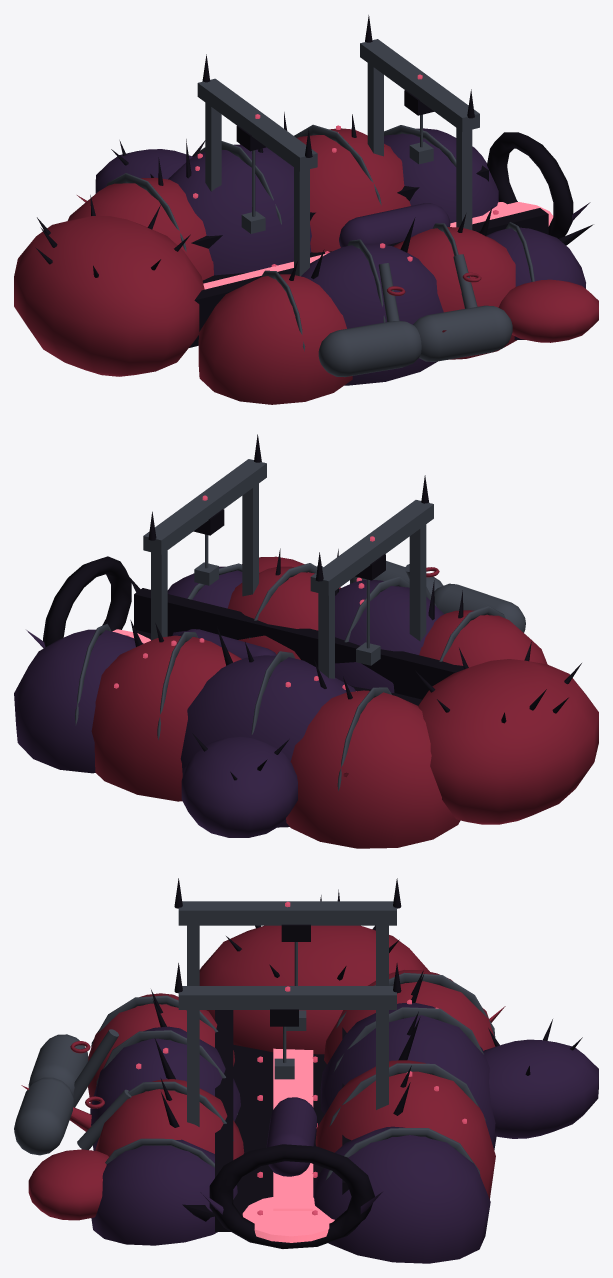
The model's file is foundry-directorate.glb.
3 renders of one model, top to bottom at view 1: azimuth 30°, elevation 25°; view 2: azimuth 150°, elevation 25°; view 3: azimuth 270°, elevation 25°, orthographic. The views are drawn at different scales.
Visible parts, largest first — view 1: stern_carapace, tergite_starboard_0, tergite_port_1, tergite_starboard_1, tergite_port_2, tergite_starboard_2, tergite_port_0, outrigger_pod_small, tergite_port_3, ballast_tank_0, ballast_tank_1, launch_mouth (+19 smaller); view 2: stern_carapace, tergite_port_0, tergite_port_2, tergite_port_1, tergite_port_3, outrigger_pod_big, bay_lip_starboard, tergite_starboard_1, tergite_starboard_0, tergite_starboard_2, gantry_beam_1, gantry_beam_0 (+16 smaller); view 3: tergite_port_3, stern_carapace, tergite_starboard_3, tergite_port_2, outrigger_pod_big, tergite_port_1, launch_mouth, tergite_starboard_2, bay_floor, gantry_beam_0, gantry_beam_1, tergite_starboard_1 (+25 smaller).
Boxes of the visible parts, x1,y1,x2,y2 form: stern_carapace: (14, 216, 204, 376); tergite_starboard_0: (198, 274, 352, 404); tergite_port_1: (168, 144, 311, 275); tergite_starboard_1: (301, 243, 443, 385); tergite_port_2: (297, 128, 410, 252); tergite_starboard_2: (393, 227, 516, 359); tergite_port_0: (67, 177, 213, 280); outrigger_pod_small: (498, 279, 598, 342); tergite_port_3: (384, 128, 498, 223); ballast_tank_0: (318, 321, 421, 377); ballast_tank_1: (413, 305, 512, 361); launch_mouth: (487, 132, 573, 238); stern_carapace: (418, 659, 598, 824); tergite_port_0: (286, 690, 460, 848); tergite_port_2: (91, 635, 241, 801); tergite_port_1: (180, 655, 355, 827); tergite_port_3: (14, 629, 143, 773); outrigger_pod_big: (181, 736, 297, 837); bay_lip_starboard: (134, 588, 463, 699); tergite_starboard_1: (335, 580, 443, 692); tergite_starboard_0: (419, 610, 547, 667); tergite_starboard_2: (227, 566, 340, 659); gantry_beam_1: (143, 459, 266, 554); gantry_beam_0: (310, 500, 433, 595); tergite_port_3: (313, 1126, 490, 1263); stern_carapace: (199, 925, 429, 1054); tergite_starboard_3: (91, 1139, 237, 1245); tergite_port_2: (315, 1060, 495, 1199); outrigger_pod_big: (483, 1039, 598, 1138); tergite_port_1: (320, 1003, 496, 1150); launch_mouth: (209, 1144, 374, 1248); tergite_starboard_2: (95, 1079, 244, 1159); bay_floor: (233, 1044, 326, 1216); gantry_beam_0: (178, 901, 396, 925); gantry_beam_1: (178, 986, 396, 1009); tergite_starboard_1: (90, 1026, 240, 1150).
Bounding box in the file's own units: 315 × 147 × 295.
